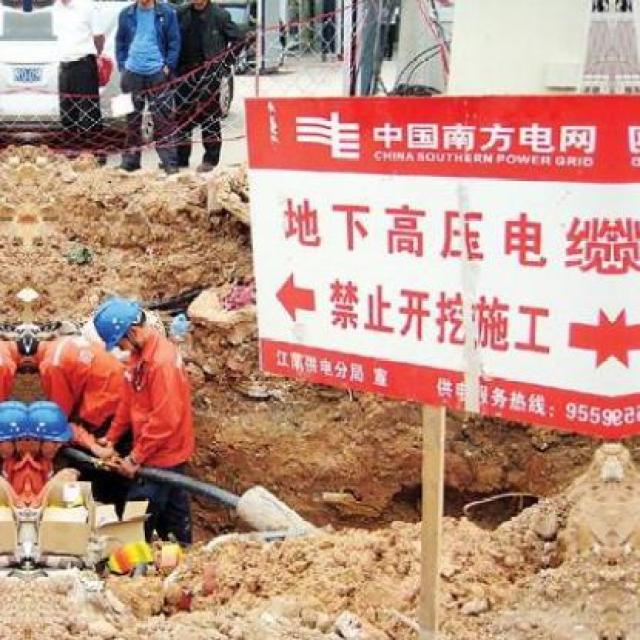helmet: (87, 295, 154, 354), (27, 396, 66, 466), (0, 395, 29, 467)
